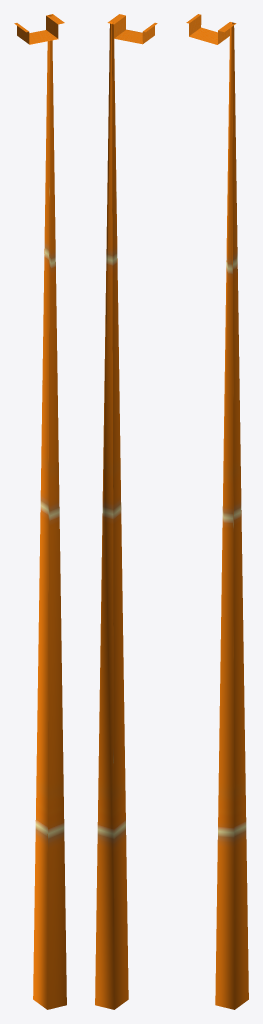
The model's file is Final Room Shoot.fbx.
The picture shows the model from 3 angles, left to right: view 1: azimuth 30°, elevation 25°; view 2: azimuth 150°, elevation 25°; view 3: azimuth 330°, elevation 25°; orthographic projection.
Parts seen in each view (by area): view 1: Floor; view 2: Floor; view 3: Floor.
Boxes of the visible parts, x1,y1,x2,y2 form: Floor: (14,14,66,1009); Floor: (95,14,157,1009); Floor: (186,14,248,1009).
Bounding box in the file's own units: 9842 × 206925 × 7166.
